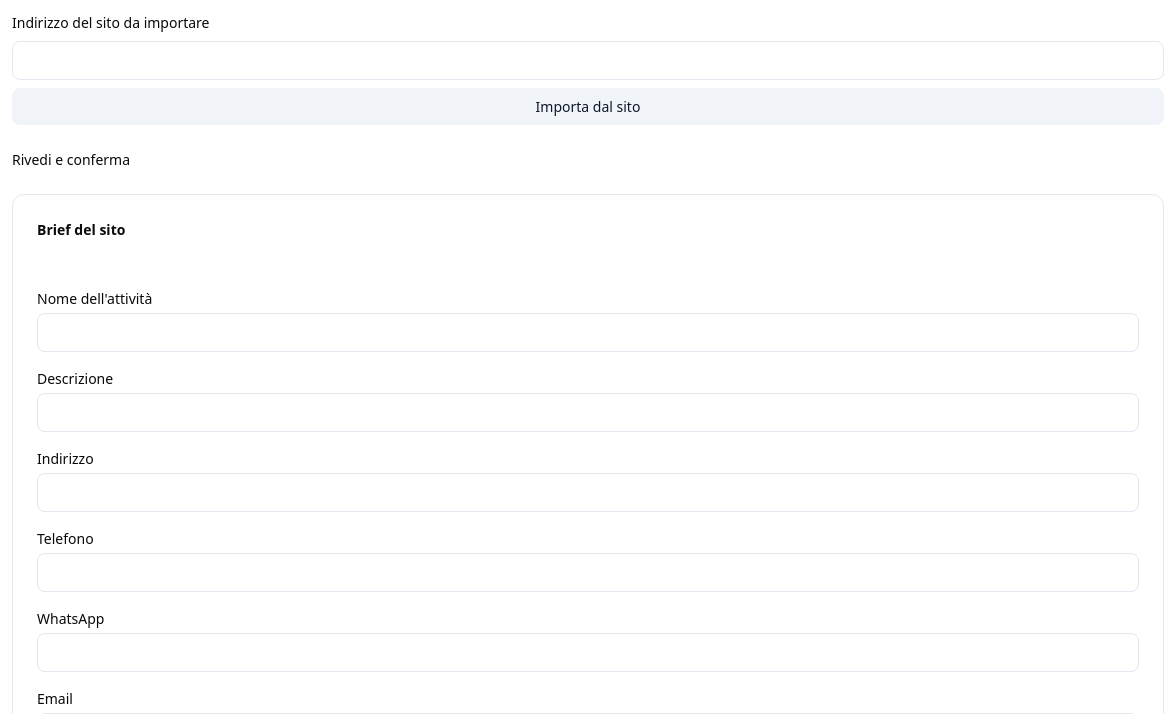
Test case: T-151 UrlImportBar: fromUrl → pre-riempimento del pannello › invio dell URL: fromUrl e invocata con QUELL url e il pannello e pre-riempito con la proposta
Expected: the field labelled "Nome dell'attività" is empty, [37,313,1139,352]
Type "https://barsole.example/contatti" into the field labelled "Indirizzo del sito da importare" at (588, 60), box [12,41,1164,80]
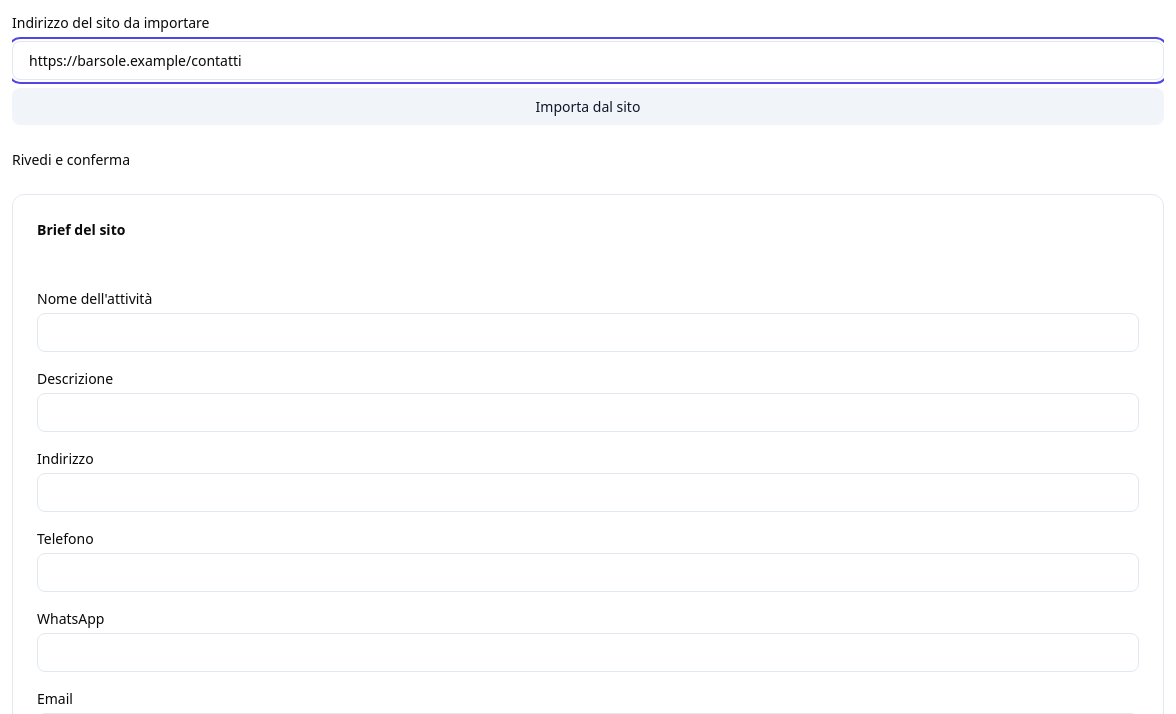
Click the button "Importa dal sito" at (588, 106), box [12,88,1164,125]
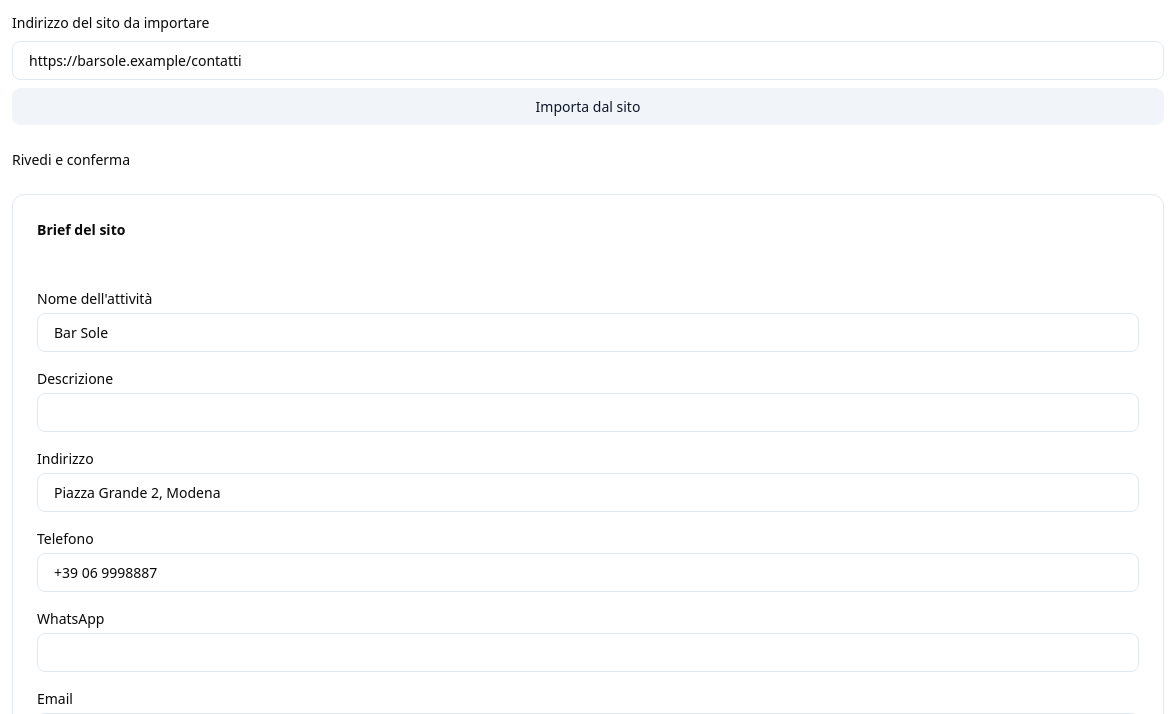
Expected: the field labelled "Nome dell'attività" holds "Bar Sole", [37,313,1139,352]
Expected: the field labelled "Telefono" holds "+39 06 9998887", [37,553,1139,592]
Expected: the field labelled "Indirizzo" holds "Piazza Grande 2, Modena", [37,473,1139,512]
